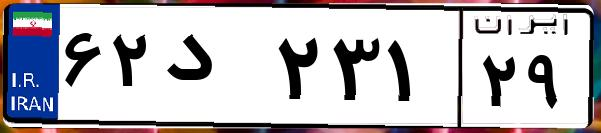1: (385, 28, 445, 110)
2: (270, 28, 330, 110), (475, 38, 525, 113), (110, 28, 158, 98)
3: (330, 28, 385, 110)
6: (57, 26, 110, 100)
9: (525, 38, 570, 115)
د: (158, 20, 270, 120)
